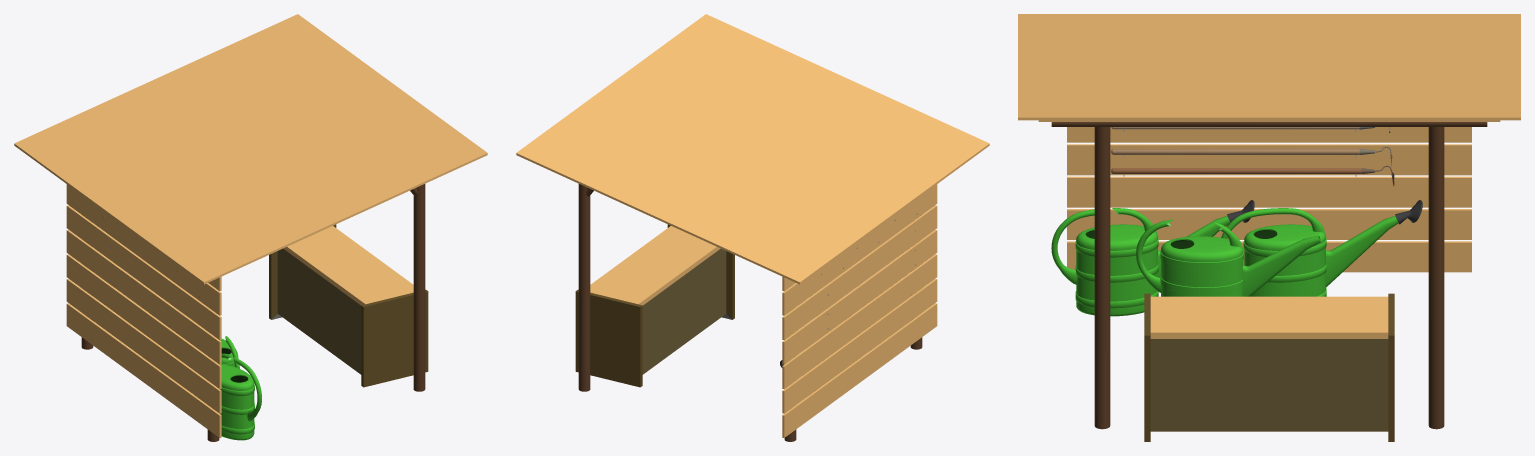
Rendered from FeInstruments_shop.fbx.
3 renders of one model, left to right at view 1: azimuth 30°, elevation 25°; view 2: azimuth 150°, elevation 25°; view 3: azimuth 270°, elevation 25°, orthographic. The views are drawn at different scales.
Parts seen in each view (by area): view 1: Instruments_shop_LOD0; view 2: Instruments_shop_LOD0; view 3: Instruments_shop_LOD0.
Boxes of the visible parts, x1,y1,x2,y2 form: Instruments_shop_LOD0: [14, 14, 487, 441]; Instruments_shop_LOD0: [516, 14, 989, 441]; Instruments_shop_LOD0: [1018, 14, 1520, 441].
Size of what is drawn, in the model's own units: 294 by 341 by 249.
